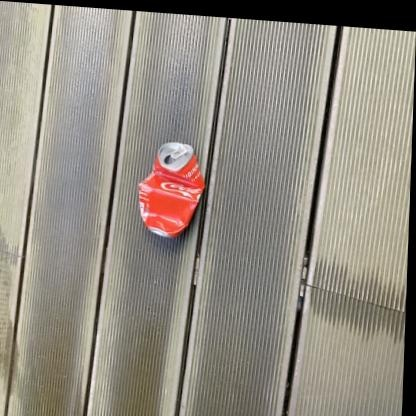trash: (138, 142, 204, 236)
